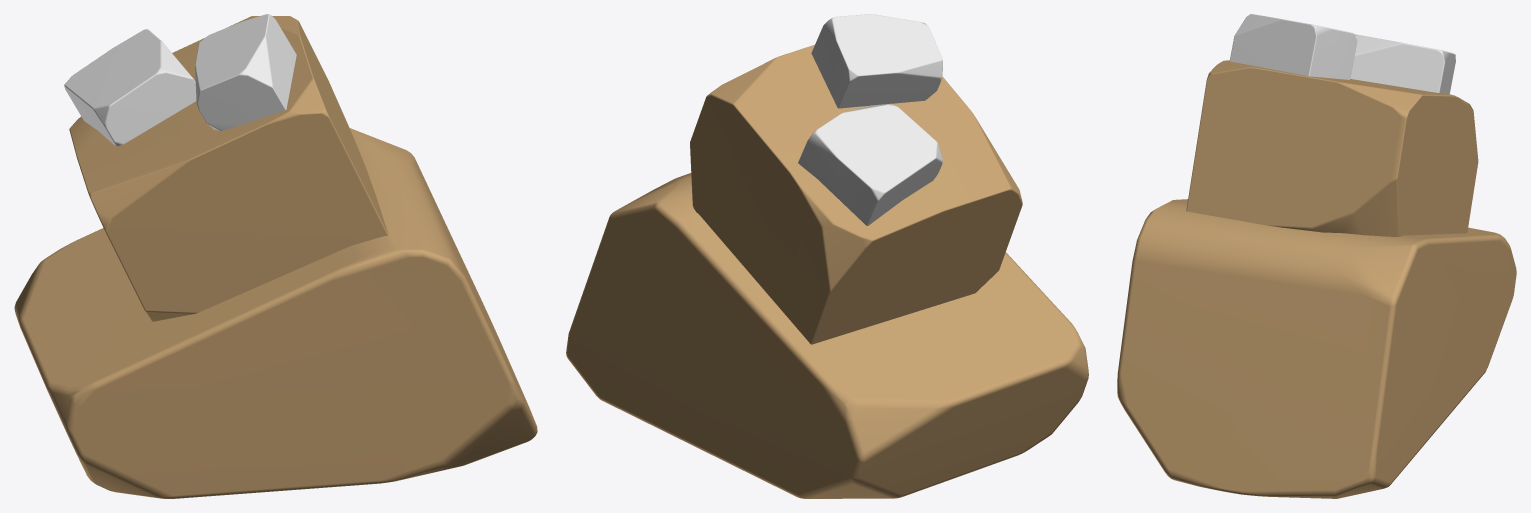
Rendered from Rocks type 6.fbx.
3 views of the same model, side by side, from view 1: azimuth 30°, elevation 25°; view 2: azimuth 150°, elevation 25°; view 3: azimuth 270°, elevation 25° (orthographic). The views are drawn at different scales.
Parts seen in each view (by area): view 1: Cube.059, Cube.060, Cube.129, Cube.069; view 2: Cube.059, Cube.060, Cube.129, Cube.069; view 3: Cube.059, Cube.060, Cube.069, Cube.129.
Part boxes in pixels (x1=…): Cube.059: x1=14, y1=128, x2=537, y2=498; Cube.060: x1=69, y1=16, x2=388, y2=321; Cube.129: x1=64, y1=29, x2=196, y2=146; Cube.069: x1=195, y1=14, x2=296, y2=130; Cube.059: x1=566, y1=173, x2=1088, y2=498; Cube.060: x1=690, y1=45, x2=1022, y2=344; Cube.129: x1=798, y1=103, x2=942, y2=225; Cube.069: x1=811, y1=14, x2=942, y2=108; Cube.059: x1=1117, y1=199, x2=1516, y2=498; Cube.060: x1=1186, y1=60, x2=1478, y2=236; Cube.069: x1=1229, y1=14, x2=1357, y2=79; Cube.129: x1=1350, y1=34, x2=1455, y2=93.
Bounding box in the file's own units: 8367 × 6915 × 6677.
